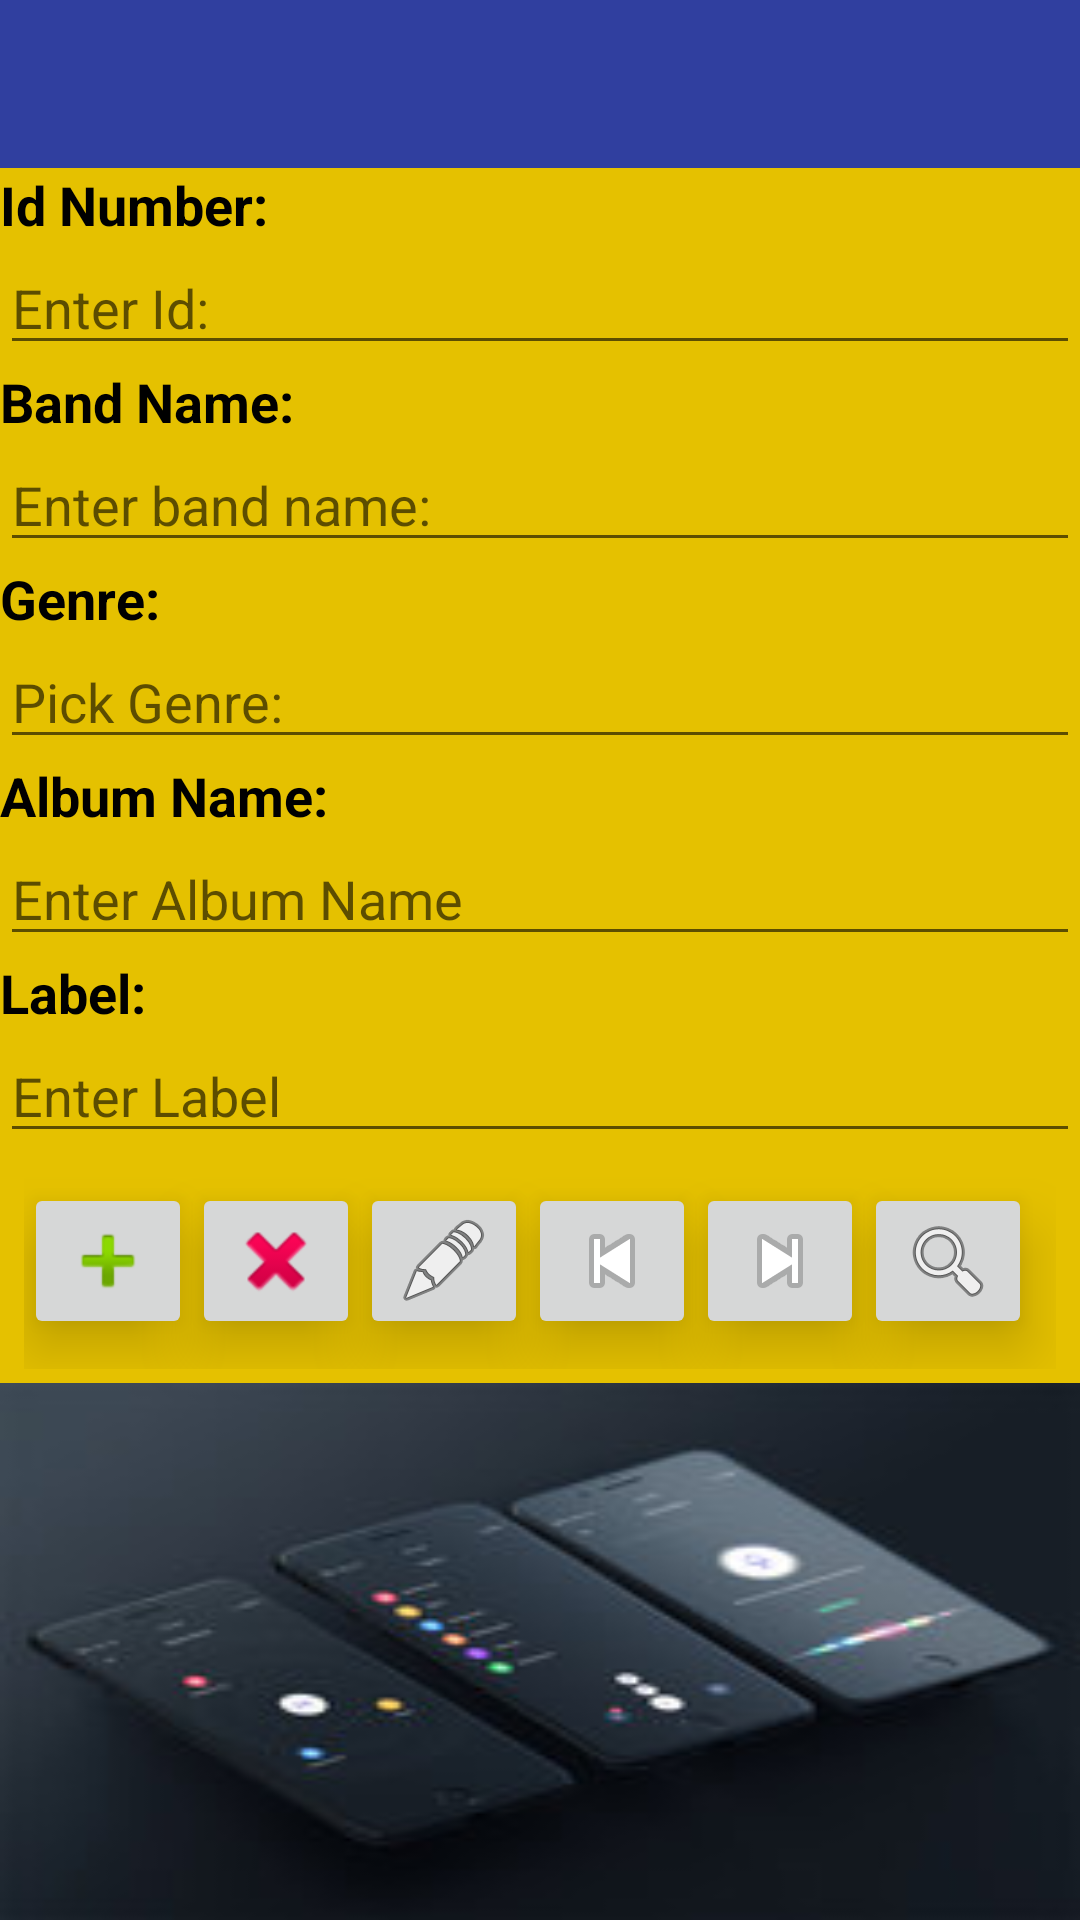

Icon click points for this 1080px x 1920px phone screenshot, format (x,y):
add: (108,1261)
delete: (274,1268)
edit: (444,1268)
next: (780,1261)
previous: (612,1261)
search: (948,1261)
